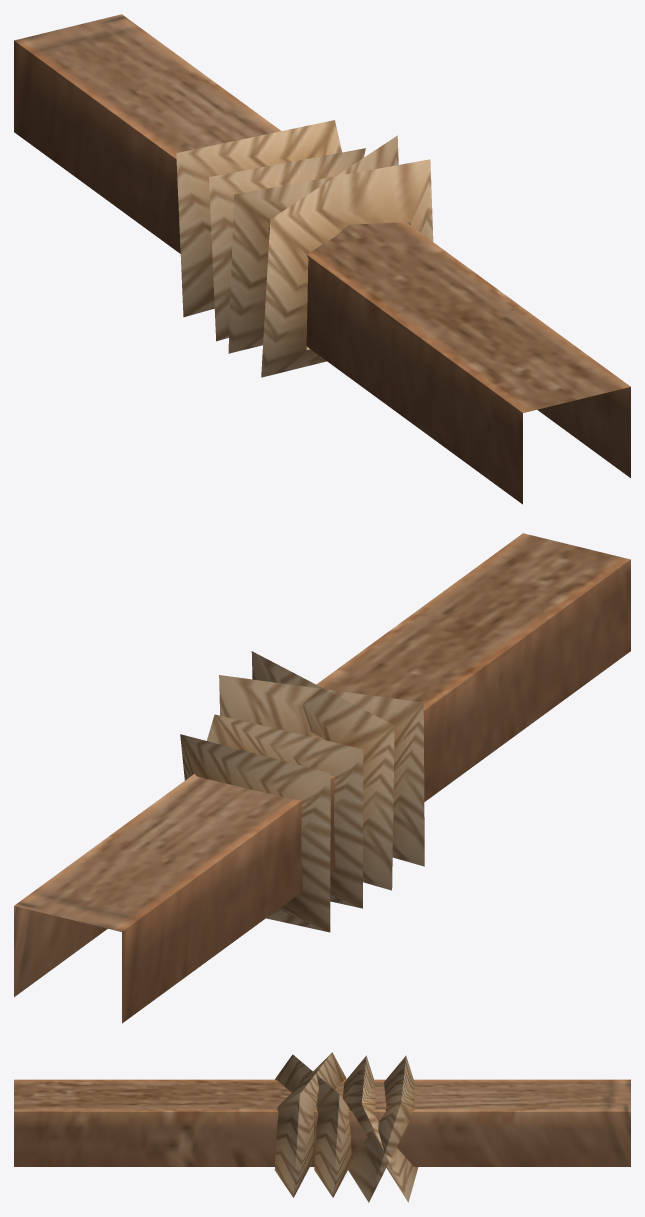
The model's file is FB_ShanJianMuQiao_MUtou02.FBX.
The picture shows the model from 3 angles, top to bottom: view 1: azimuth 30°, elevation 25°; view 2: azimuth 150°, elevation 25°; view 3: azimuth 270°, elevation 25°; orthographic projection. The views are drawn at different scales.
Visible parts, largest first — view 1: Box02, Box24, Box25; view 2: Box02, Box24, Box25; view 3: Box02, Box24, Box25.
Boxes of the visible parts, x1,y1,x2,y2 form: Box02: (14, 14, 630, 504); Box24: (228, 135, 433, 377); Box25: (176, 120, 365, 341); Box02: (14, 533, 630, 1023); Box24: (219, 651, 424, 890); Box25: (180, 714, 363, 932); Box02: (14, 1079, 630, 1166); Box24: (274, 1052, 351, 1197); Box25: (342, 1055, 418, 1202).
Bounding box in the file's own units: 1.03 × 1.03 × 5.28.
